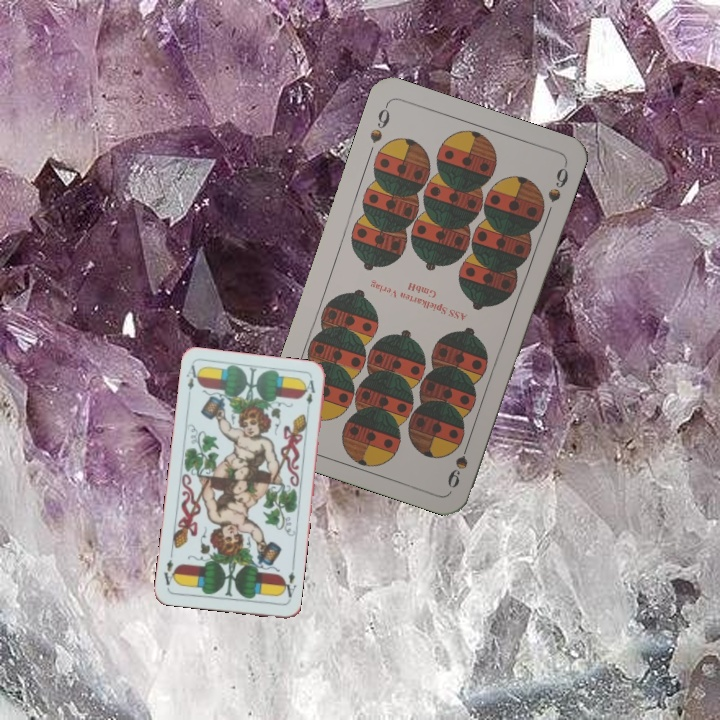EA: (278, 563, 299, 603), (182, 361, 202, 392)
S9: (443, 434, 474, 491), (366, 100, 393, 146)
